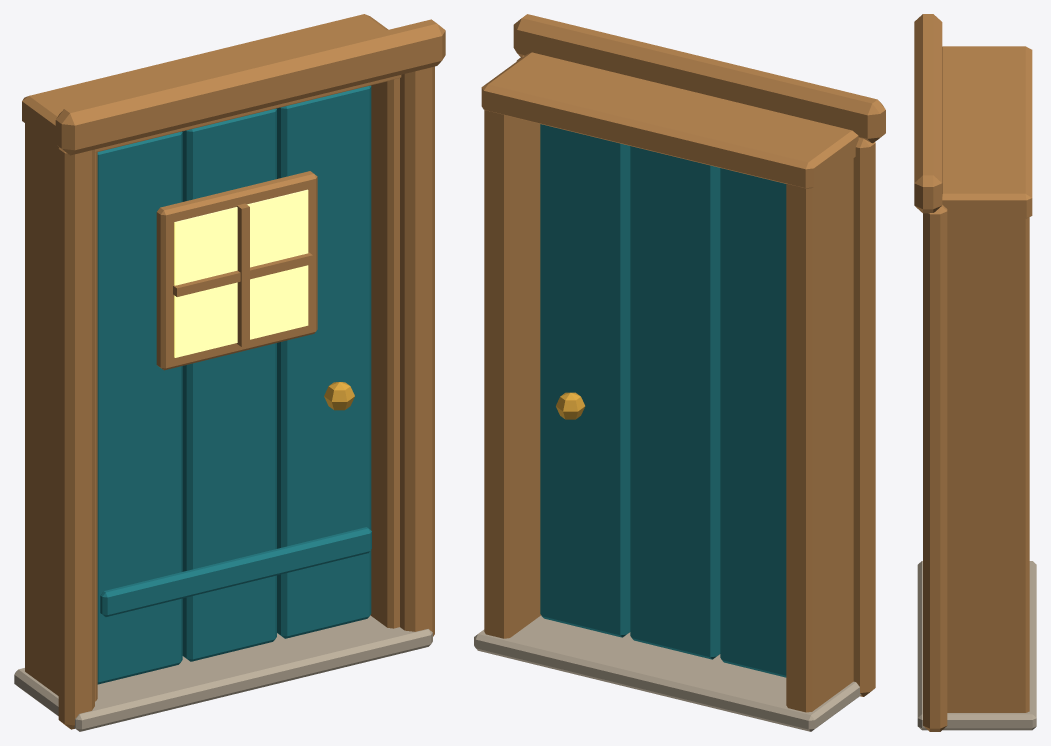
Rendered from door_insert.glb.
3 views of the same model, side by side, from view 1: azimuth 30°, elevation 25°; view 2: azimuth 150°, elevation 25°; view 3: azimuth 270°, elevation 25° (orthographic). The views are drawn at different scales.
Parts seen in each view (by area): view 1: part_door_leaf, door_insert; view 2: door_insert, part_door_leaf; view 3: door_insert.
Boxes of the visible parts, x1,y1,x2,y2 form: part_door_leaf: (97, 85, 371, 684); door_insert: (14, 14, 445, 731); door_insert: (474, 14, 885, 731); part_door_leaf: (540, 124, 786, 677); door_insert: (914, 14, 1036, 731).
Bounding box in the file's own units: 1.14 × 1.76 × 0.35.
